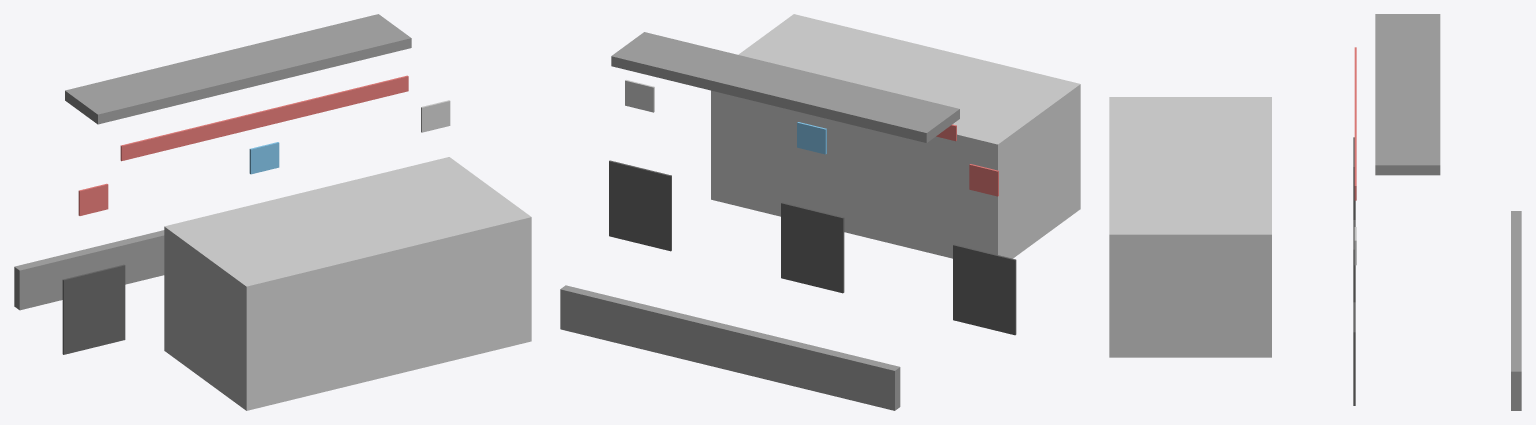
File: pit_building.glb
The picture shows the model from 3 angles, left to right: view 1: azimuth 30°, elevation 25°; view 2: azimuth 150°, elevation 25°; view 3: azimuth 270°, elevation 25°; orthographic projection.
Parts seen in each view (by area): view 1: pit_building; view 2: pit_building; view 3: pit_building.
Boxes of the visible parts, <box> form: pit_building: <box>14,14,531,410</box>; pit_building: <box>560,14,1080,410</box>; pit_building: <box>1109,14,1521,410</box>.
Size of the model in its own units: 4.25 by 2.45 by 3.8.
